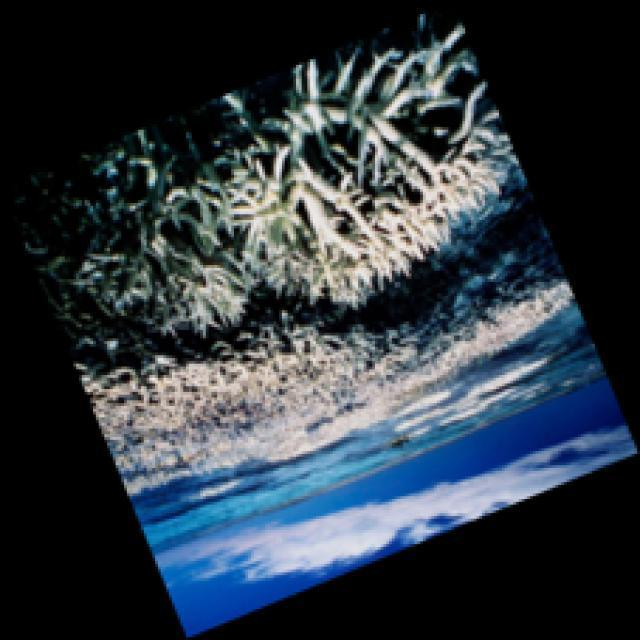Bleached: (70, 1, 579, 494), (80, 1, 535, 336)
